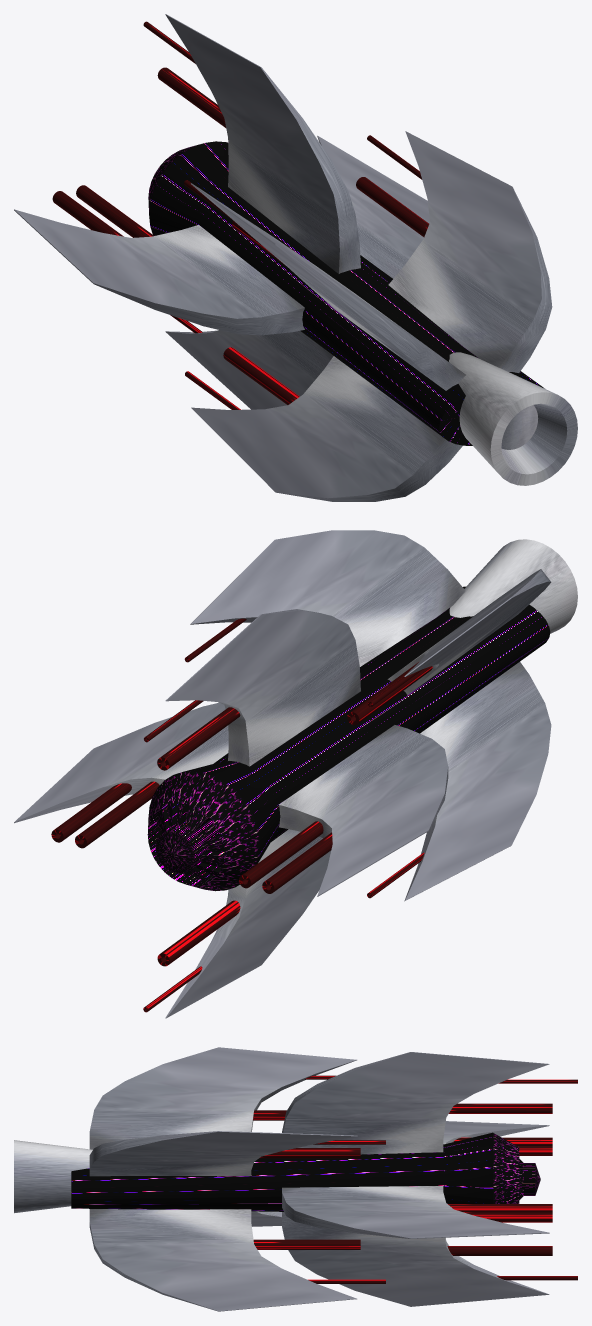
File: guardian.gltf
3 renders of one model, top to bottom at view 1: azimuth 30°, elevation 25°; view 2: azimuth 150°, elevation 25°; view 3: azimuth 270°, elevation 25°, orthographic. The views are drawn at different scales.
Visible parts, largest first — view 1: Cube.003, Cube, Cube.001, Sphere, Cone.001, Cube.004, Cylinder.015, Cylinder.008, Cylinder.005, Cylinder, Cylinder.001; view 2: Cube.003, Sphere, Cube, Cube.001, Cone.001, Cube.004, Cylinder.005, Cylinder.007, Cylinder.004, Cylinder, Cylinder.002, Cylinder.001 (+1 smaller); view 3: Cube.004, Cube, Sphere, Cube.001, Cube.003, Cone.001, Cylinder.011, Cylinder, Cylinder.007, Cylinder.015, Cylinder.004, Cylinder.002 (+5 smaller).
Boxes of the visible parts, bbox=[...] form: Cube.003: bbox=[191, 131, 552, 501]; Cube: bbox=[165, 14, 360, 409]; Cube.001: bbox=[14, 135, 429, 335]; Sphere: bbox=[148, 141, 544, 445]; Cone.001: bbox=[449, 352, 577, 485]; Cube.004: bbox=[191, 183, 465, 390]; Cylinder.015: bbox=[356, 177, 429, 237]; Cylinder.008: bbox=[223, 347, 299, 404]; Cylinder.005: bbox=[76, 185, 153, 237]; Cylinder: bbox=[157, 67, 225, 127]; Cylinder.001: bbox=[52, 191, 123, 236]; Cube.003: bbox=[190, 530, 551, 901]; Sphere: bbox=[147, 586, 550, 891]; Cube: bbox=[165, 609, 360, 1018]; Cube.001: bbox=[14, 702, 448, 896]; Cone.001: bbox=[449, 539, 577, 633]; Cube.004: bbox=[387, 569, 551, 695]; Cylinder.005: bbox=[239, 821, 323, 888]; Cylinder.007: bbox=[157, 900, 240, 966]; Cylinder.004: bbox=[75, 781, 159, 848]; Cylinder: bbox=[157, 707, 240, 770]; Cylinder.002: bbox=[51, 783, 131, 842]; Cylinder.001: bbox=[262, 832, 332, 893]; Cube.004: bbox=[89, 1047, 356, 1311]; Cube: bbox=[282, 1052, 549, 1306]; Sphere: bbox=[71, 1132, 540, 1211]; Cube.001: bbox=[282, 1121, 549, 1238]; Cube.003: bbox=[89, 1131, 357, 1226]; Cone.001: bbox=[14, 1140, 92, 1213]; Cylinder.011: bbox=[253, 1239, 360, 1249]; Cylinder: bbox=[449, 1103, 552, 1113]; Cylinder.007: bbox=[447, 1246, 552, 1255]; Cylinder.015: bbox=[259, 1148, 360, 1158]; Cylinder.004: bbox=[448, 1204, 552, 1212]; Cylinder.002: bbox=[464, 1212, 552, 1222].
Size of the model in its own units: 16.25 by 16.25 by 32.62.
Materials: 22 (22 with a texture image).
